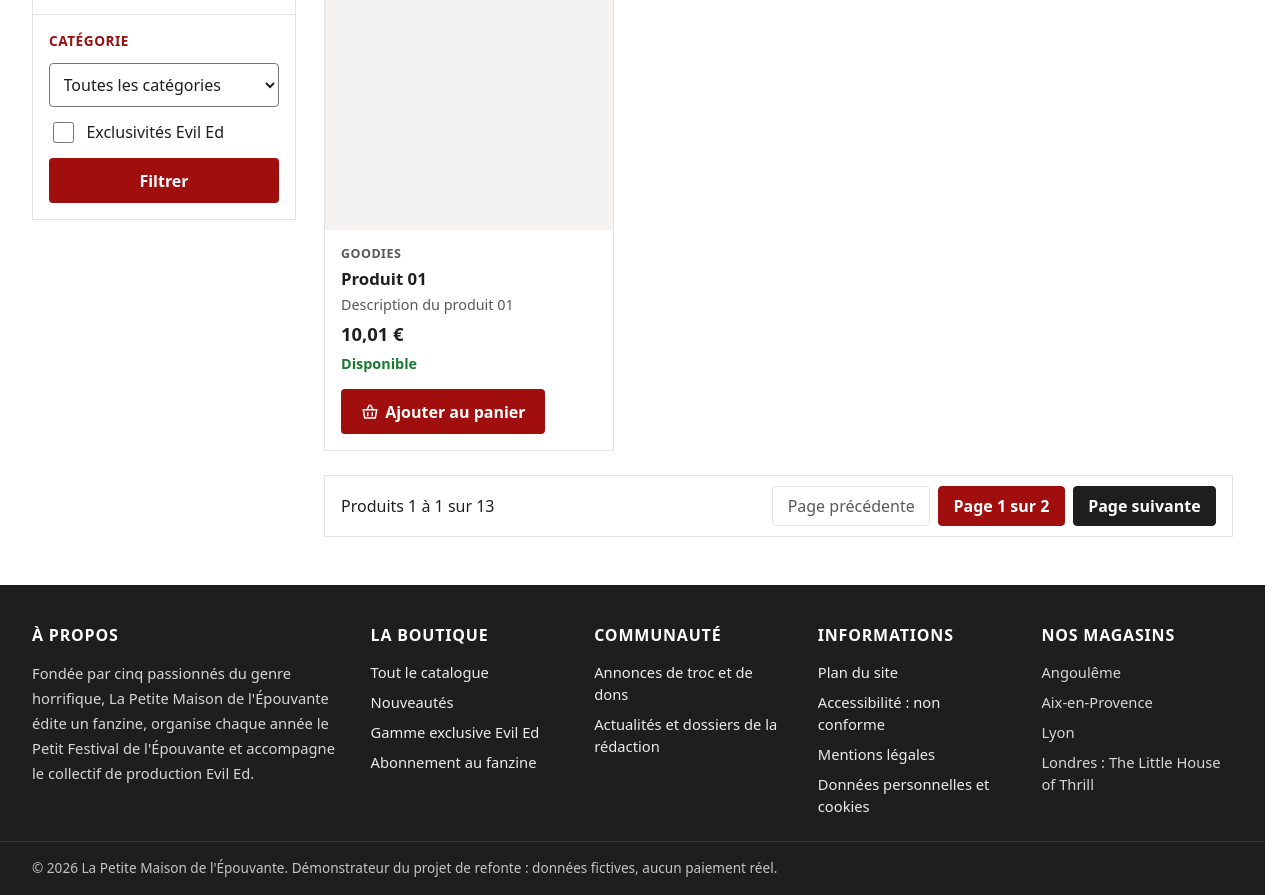
Test: Catalogue › pagine avec des liens explicites
The image size is (1280, 895).
(page scrolled)
Check: the list item "Page 1 sur 2" is shown, box [938,486,1065,526]
Click the link "Page suivante": x=1144, y=506 [1073,486,1216,526]
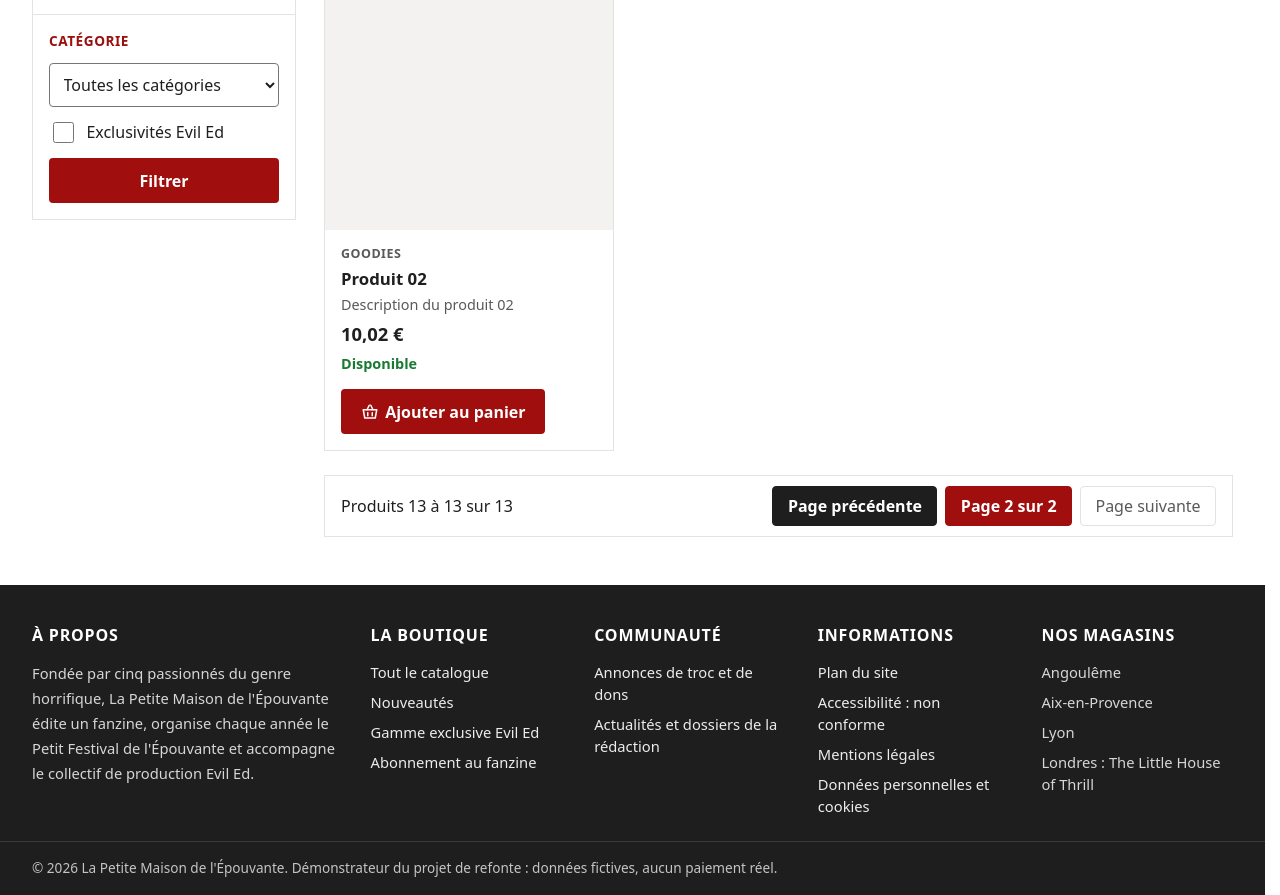
Check: the link "Produit 02" is shown, box [341,267,427,290]
Check: the list item "Page 2 sur 2" is shown, box [945,486,1072,526]
